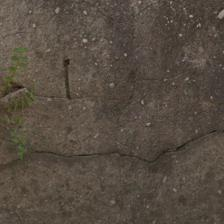Crack: (38, 18, 190, 116), (195, 106, 224, 138)
